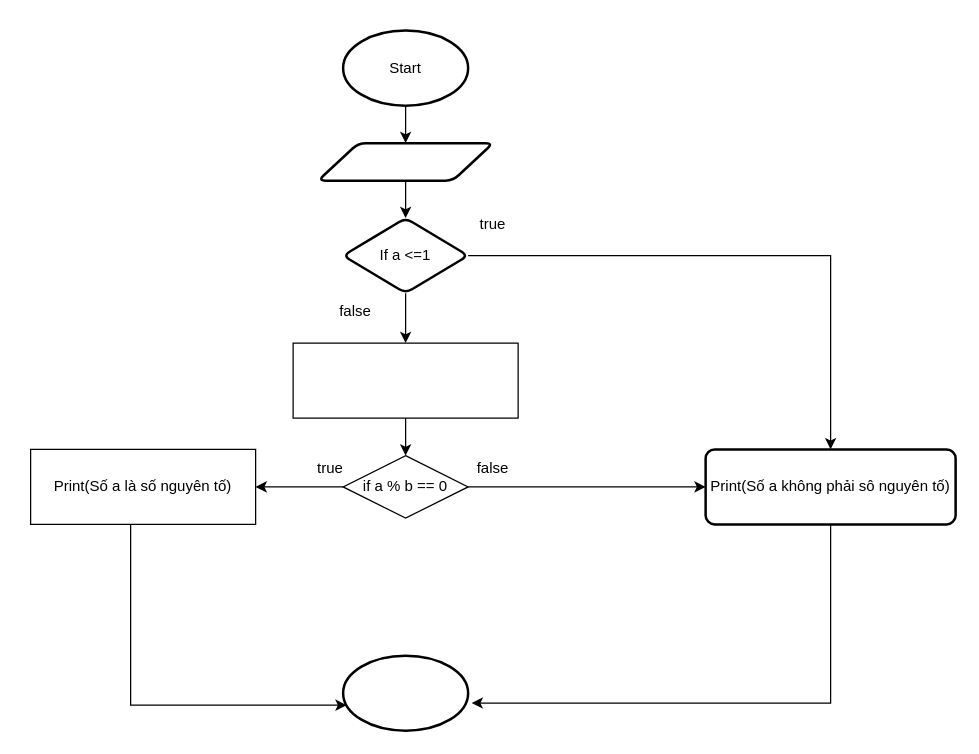
The diagram is 979 pixels wide and 754 high, and some of its shapes have lost their labels. The box of each missing label's shape, as (x1, y1, x2, y2) in pixels:
End: (341, 654, 469, 731)
For b=2,b <=sqrt(a),b++: (292, 342, 518, 418)
Input a: (316, 141, 494, 181)
